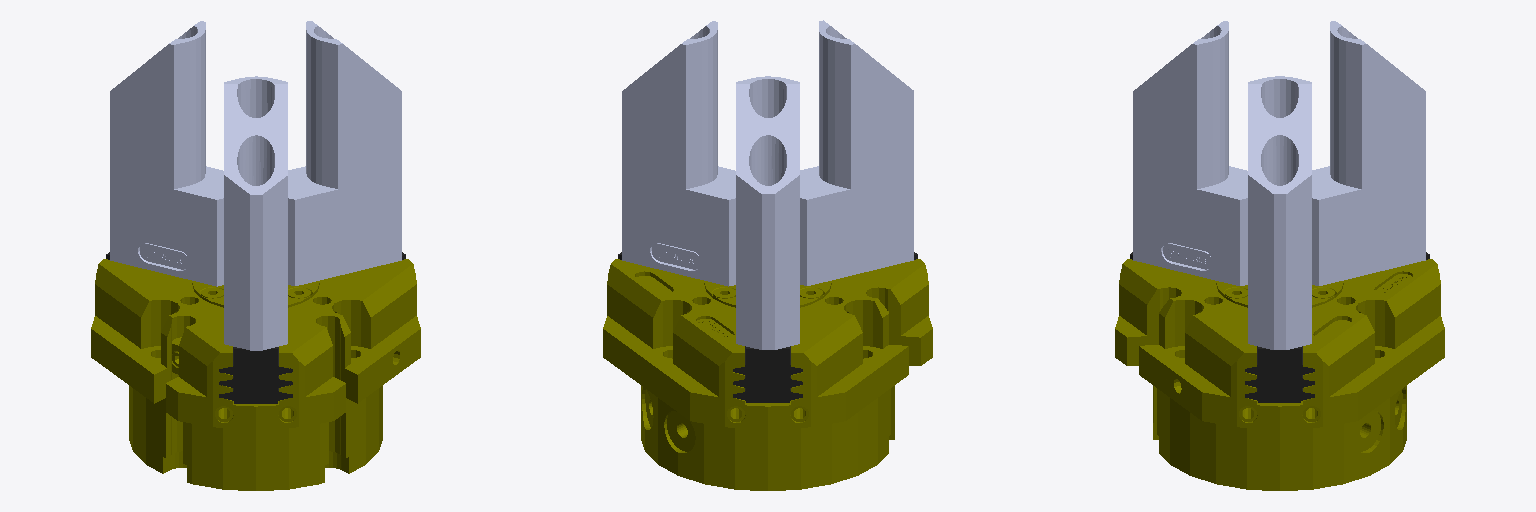
robot.urdf — pzn_plus:
<?xml version="1.0" ?>
<!-- =================================================================================== -->
<!-- |    This document was autogenerated by xacro from pzn_plus.urdf.xacro            | -->
<!-- |    EDITING THIS FILE BY HAND IS NOT RECOMMENDED                                 | -->
<!-- =================================================================================== -->
<robot name="pzn_plus">
  <!--degrees to radians-->
  <!-- xacro:pzn_plus_base_link prefix="" meshType="dae" / -->
  <!-- xacro:pzn_plus_fingers_link prefix="" meshType="dae" / -->
  <!-- xacro:pzn_plus_transmission prefix=""  / -->
  <!-- links -->
  <link name="pzn_plus_base_link">
    <inertial>
      <origin rpy="0 0 0" xyz="-3.72573931268341E-05 0.000318338201142255 0.0127328982984143"/>
      <mass value="0.0307377335375316"/>
      <inertia ixx="4.77894957339341E-06" ixy="-1.95335252616781E-09" ixz="1.69640432077875E-09" iyy="4.85993064937264E-06" iyz="-1.81146687762425E-08" izz="7.49495167832347E-06"/>
    </inertial>
    <visual>
      <origin rpy="0 0 0" xyz="0 0 0"/>
      <geometry>
        <mesh filename="package://pzn_plus_description/meshes/pzn_plus_base.dae"/>
      </geometry>
      <material name="">
        <color rgba="0.517647058823529 0.517647058823529 0 1"/>
      </material>
    </visual>
    <collision>
      <origin rpy="0 0 0" xyz="0 0 0"/>
      <geometry>
        <mesh filename="package://pzn_plus_description/meshes/pzn_plus_base.dae"/>
      </geometry>
    </collision>
  </link>
  <link name="pzn_plus_trans_1">
    <inertial>
      <origin rpy="0 0 0" xyz="-3.57849226535115E-10 0.0108765381400886 -0.000315367044710781"/>
      <mass value="0.00162889478244803"/>
      <inertia ixx="7.49822342198456E-08" ixy="-1.27842770643375E-16" ixz="-2.44691269921564E-15" iyy="2.23913080422873E-08" iyz="1.44435754323217E-09" izz="7.75810628622913E-08"/>
    </inertial>
    <visual>
      <origin rpy="0 0 0" xyz="-0.0016 0.022 -0.0045"/>
      <geometry>
        <mesh filename="package://pzn_plus_description/meshes/pzn_plus_trans.dae"/>
      </geometry>
      <material name="">
        <color rgba="0.180392156862745 0.180392156862745 0.180392156862745 1"/>
      </material>
    </visual>
    <collision>
      <origin rpy="0 0 0" xyz="-0.0016 0.022 -0.0045"/>
      <geometry>
        <mesh filename="package://pzn_plus_description/meshes/pzn_plus_trans.dae"/>
      </geometry>
    </collision>
  </link>
  <link name="pzn_plus_trans_2">
    <inertial>
      <origin rpy="0 0 0" xyz="-3.58109043287202E-10 0.0108765388192112 -0.00031536704443285"/>
      <mass value="0.00162889478115007"/>
      <inertia ixx="7.498223362452E-08" ixy="-1.83887864245355E-16" ixz="-2.4469784777142E-15" iyy="2.23913080100562E-08" iyz="1.44435775103784E-09" izz="7.75810622404117E-08"/>
    </inertial>
    <visual>
      <origin rpy="0 0 0" xyz="-0.0016 0.022 -0.0045"/>
      <geometry>
        <mesh filename="package://pzn_plus_description/meshes/pzn_plus_trans.dae"/>
      </geometry>
      <material name="">
        <color rgba="0.180392156862745 0.180392156862745 0.180392156862745 1"/>
      </material>
    </visual>
    <collision>
      <origin rpy="0 0 0" xyz="-0.0016 0.022 -0.0045"/>
      <geometry>
        <mesh filename="package://pzn_plus_description/meshes/pzn_plus_trans.dae"/>
      </geometry>
    </collision>
  </link>
  <link name="pzn_plus_trans_3">
    <inertial>
      <origin rpy="0 0 0" xyz="-3.58109044154564E-10 0.0108765388192112 -0.00031536704443285"/>
      <mass value="0.00162889478115007"/>
      <inertia ixx="7.49822336245201E-08" ixy="-1.83887845220201E-16" ixz="-2.446978477921E-15" iyy="2.23913080100562E-08" iyz="1.44435775103783E-09" izz="7.75810622404117E-08"/>
    </inertial>
    <visual>
      <origin rpy="0 0 0" xyz="-0.0016 0.022 -0.0045"/>
      <geometry>
        <mesh filename="package://pzn_plus_description/meshes/pzn_plus_trans.dae"/>
      </geometry>
      <material name="">
        <color rgba="0.180392156862745 0.180392156862745 0.180392156862745 1"/>
      </material>
    </visual>
    <collision>
      <origin rpy="0 0 0" xyz="-0.0016 0.022 -0.0045"/>
      <geometry>
        <mesh filename="package://pzn_plus_description/meshes/pzn_plus_trans.dae"/>
      </geometry>
    </collision>
  </link>
  <joint name="pzn_plus_prismatic_1" type="prismatic">
    <origin rpy="0 0 -0.523598775598" xyz="-0.01124 -0.0227105829743 0.022187"/>
    <parent link="pzn_plus_base_link"/>
    <child link="pzn_plus_trans_1"/>
    <axis xyz="0 1 0"/>
    <limit effort="300" lower="-0.015" upper="0" velocity="1"/>
  </joint>
  <joint name="pzn_plus_prismatic_2" type="prismatic">
    <origin rpy="0 0 1.5708012244" xyz="0.0252 0.00157 0.022187"/>
    <parent link="pzn_plus_base_link"/>
    <child link="pzn_plus_trans_2"/>
    <axis xyz="0 1 0"/>
    <limit effort="300" lower="-0.015" upper="0" velocity="1"/>
    <mimic joint="pzn_plus_prismatic_1" multiplier="1" offset="0"/>
  </joint>
  <joint name="pzn_plus_prismatic_3" type="prismatic">
    <origin rpy="0 0 -2.617921602390" xyz="-0.01397735 0.021 0.0221865670970663"/>
    <parent link="pzn_plus_base_link"/>
    <child link="pzn_plus_trans_3"/>
    <axis xyz="0 1 0"/>
    <limit effort="300" lower="-0.015" upper="0" velocity="1"/>
    <mimic joint="pzn_plus_prismatic_1" multiplier="1" offset="0"/>
  </joint>
  <!-- links -->
  <link name="pzn_plus_finger_1">
    <inertial>
      <origin rpy="0 0 0" xyz="-1.7793206712053E-05 0.0105466571996601 0.0138490825923717"/>
      <mass value="0.00453123049399013"/>
      <inertia ixx="6.19390061820821E-07" ixy="7.11229380477195E-11" ixz="-1.27115655316891E-09" iyy="5.04845770684435E-07" iyz="6.06988981710161E-08" izz="2.014102697996E-07"/>
    </inertial>
    <visual>
      <origin rpy="0 0 0" xyz="-0.0001 0.0243 0"/>
      <geometry>
        <mesh filename="package://pzn_plus_description/meshes/pzn_plus_finger_1.dae"/>
      </geometry>
      <material name="">
        <color rgba="0.792156862745098 0.819607843137255 0.933333333333333 1"/>
      </material>
    </visual>
    <collision>
      <origin rpy="0 0 0" xyz="-0.0001 0.0243 0"/>
      <geometry>
        <mesh filename="package://pzn_plus_description/meshes/pzn_plus_finger_1.dae"/>
      </geometry>
    </collision>
  </link>
  <link name="pzn_plus_finger_2">
    <inertial>
      <origin rpy="0 0 0" xyz="-1.77932067122978E-05 0.0105466571996597 0.0138490825923717"/>
      <mass value="0.00453123049399013"/>
      <inertia ixx="6.19390061820822E-07" ixy="7.11229380476237E-11" ixz="-1.27115655316891E-09" iyy="5.04845770684436E-07" iyz="6.06988981710159E-08" izz="2.014102697996E-07"/>
    </inertial>
    <visual>
      <origin rpy="0 0 0" xyz="-0.0001 0.0243 0"/>
      <geometry>
        <mesh filename="package://pzn_plus_description/meshes/pzn_plus_finger_1.dae"/>
      </geometry>
      <material name="">
        <color rgba="0.792156862745098 0.819607843137255 0.933333333333333 1"/>
      </material>
    </visual>
    <collision>
      <origin rpy="0 0 0" xyz="-0.0001 0.0243 0"/>
      <geometry>
        <mesh filename="package://pzn_plus_description/meshes/pzn_plus_finger_1.dae"/>
      </geometry>
    </collision>
  </link>
  <link name="pzn_plus_finger_3">
    <inertial>
      <origin rpy="0 0 0" xyz="-1.77932067118042E-05 0.0105466571996597 0.0138490825923717"/>
      <mass value="0.00453123049399013"/>
      <inertia ixx="6.19390061820822E-07" ixy="7.11229380478619E-11" ixz="-1.27115655316895E-09" iyy="5.04845770684436E-07" iyz="6.06988981710161E-08" izz="2.014102697996E-07"/>
    </inertial>
    <visual>
      <origin rpy="0 0 0" xyz="-0.0001 0.0243 0"/>
      <geometry>
        <mesh filename="package://pzn_plus_description/meshes/pzn_plus_finger_1.dae"/>
      </geometry>
      <material name="">
        <color rgba="0.792156862745098 0.819607843137255 0.933333333333333 1"/>
      </material>
    </visual>
    <collision>
      <origin rpy="0 0 0" xyz="-0.0001 0.0243 0"/>
      <geometry>
        <mesh filename="package://pzn_plus_description/meshes/pzn_plus_finger_1.dae"/>
      </geometry>
    </collision>
  </link>
  <transmission name="trans_prismatic_joint_translational_1_effort">
    <type>transmission_interface/SimpleTransmission</type>
    <joint name="pzn_plus_prismatic_1">
      <hardwareInterface>hardware_interface/EffortJointInterface</hardwareInterface>
    </joint>
    <actuator name="prismatic_joint_translational_1_motor_effort">
      <hardwareInterface>hardware_interface/EffortJointInterface</hardwareInterface>
      <mechanicalReduction>1</mechanicalReduction>
    </actuator>
  </transmission>
  <gazebo>
    <plugin filename="libroboticsgroup_upatras_gazebo_mimic_joint_plugin.so" name="translational_2">
      <joint>pzn_plus_prismatic_1</joint>
      <mimicJoint>pzn_plus_prismatic_2</mimicJoint>
      <multiplier>1</multiplier>
      <offset>0</offset>
    </plugin>
  </gazebo>
  <gazebo>
    <plugin filename="libroboticsgroup_upatras_gazebo_mimic_joint_plugin.so" name="translational_3">
      <joint>pzn_plus_prismatic_1</joint>
      <mimicJoint>pzn_plus_prismatic_3</mimicJoint>
      <multiplier>1</multiplier>
      <offset>0</offset>
    </plugin>
  </gazebo>
  <!-- links -->
  <!--link name="world" /-->
  <!--
        <joint name="fixed" type="fixed">
            <parent link="world" />
            <child link="${prefix}base_link" />
        </joint>
-->
  <joint name="pzn_plus_finger_1" type="fixed">
    <origin rpy="0 0 0" xyz="-0.00147 0.0005 0.0050134"/>
    <parent link="pzn_plus_trans_1"/>
    <child link="pzn_plus_finger_1"/>
    <axis xyz="0 0 0"/>
  </joint>
  <joint name="pzn_plus_finger_2" type="fixed">
    <origin rpy="0 0 0" xyz="-0.00147 0.0005 0.00501343290293372"/>
    <parent link="pzn_plus_trans_2"/>
    <child link="pzn_plus_finger_2"/>
    <axis xyz="0 0 0"/>
  </joint>
  <joint name="pzn_plus_finger_3" type="fixed">
    <origin rpy="0 0 0" xyz="-0.00147 0.0005 0.00501343290293372"/>
    <parent link="pzn_plus_trans_3"/>
    <child link="pzn_plus_finger_3"/>
    <axis xyz="0 0 0"/>
  </joint>
</robot>

--- What the picture shows (computed from the rendered views, not written in the file) ---
3 views of the same robot in one strip: view 1: azimuth 30°, elevation 25°; view 2: azimuth 150°, elevation 25°; view 3: azimuth 270°, elevation 25° (orthographic).
Robot: pzn_plus — 7 links, 6 joints (3 prismatic, 3 fixed); root link pzn_plus_base_link; default pose: every joint at zero.
Visible links, largest first — view 1: pzn_plus_base_link, pzn_plus_finger_2, pzn_plus_finger_3, pzn_plus_finger_1, pzn_plus_trans_1; view 2: pzn_plus_base_link, pzn_plus_finger_2, pzn_plus_finger_1, pzn_plus_finger_3, pzn_plus_trans_3; view 3: pzn_plus_base_link, pzn_plus_finger_1, pzn_plus_finger_3, pzn_plus_finger_2, pzn_plus_trans_2.
Link boxes in pixels (<box>): pzn_plus_base_link: <box>91,259,420,490</box>; pzn_plus_finger_2: <box>288,21,401,285</box>; pzn_plus_finger_3: <box>110,21,223,286</box>; pzn_plus_finger_1: <box>224,76,287,350</box>; pzn_plus_trans_1: <box>219,347,292,403</box>; pzn_plus_base_link: <box>603,259,932,490</box>; pzn_plus_finger_2: <box>622,21,735,286</box>; pzn_plus_finger_1: <box>800,20,913,285</box>; pzn_plus_finger_3: <box>736,76,799,349</box>; pzn_plus_trans_3: <box>733,346,802,402</box>; pzn_plus_base_link: <box>1115,259,1444,490</box>; pzn_plus_finger_1: <box>1133,21,1247,285</box>; pzn_plus_finger_3: <box>1312,21,1425,285</box>; pzn_plus_finger_2: <box>1248,76,1311,349</box>; pzn_plus_trans_2: <box>1245,346,1314,402</box>.
Bounding box of the posed robot: 0.048 × 0.0518 × 0.0672 m (x, y, z).
Meshes: 3 distinct files referenced, 7 mesh visuals loaded (3 Collada DAE).
